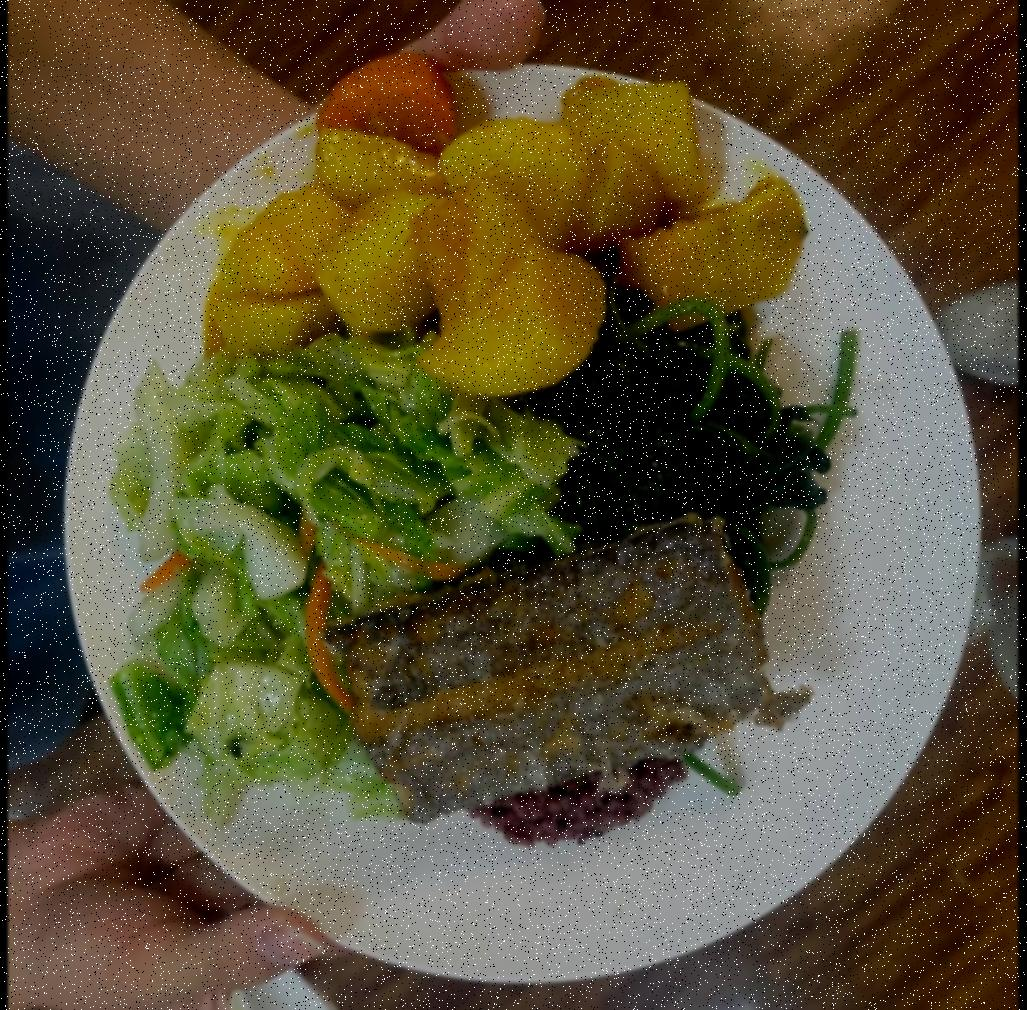big fried chicken leg: (49, 34, 1000, 1003)
braised fish: (466, 746, 690, 864)
braised fish fillet: (199, 40, 812, 398), (124, 323, 578, 800), (536, 293, 842, 588)
braised pork ribs: (319, 508, 784, 835)
